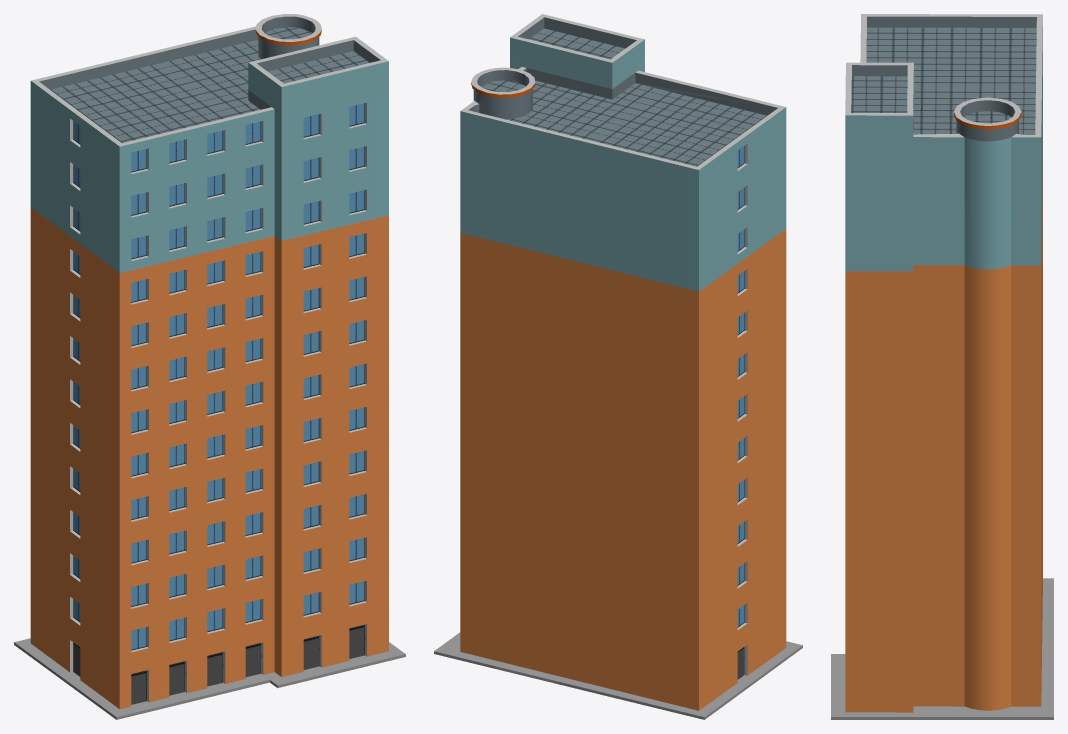
The model's file is 公寓大楼.gltf.
3 renders of one model, left to right at view 1: azimuth 30°, elevation 25°; view 2: azimuth 150°, elevation 25°; view 3: azimuth 270°, elevation 25°, orthographic. The views are drawn at different scales.
Visible parts, largest first — view 1: Lo-13层公寓大楼_01, Lo-Bodyboli_01; view 2: Lo-13层公寓大楼_01, Lo-Bodyboli_01; view 3: Lo-13层公寓大楼_01.
Boxes of the visible parts, x1=… form: Lo-13层公寓大楼_01: x1=14, y1=14, x2=405, y2=719; Lo-Bodyboli_01: x1=73, y1=103, x2=364, y2=650; Lo-13层公寓大楼_01: x1=434, y1=14, x2=802, y2=719; Lo-Bodyboli_01: x1=737, y1=145, x2=744, y2=627; Lo-13层公寓大楼_01: x1=831, y1=14, x2=1053, y2=719.
Size of the model in its own units: 21.03 by 42.32 by 14.25.
Materials: 2 (2 with a texture image).
